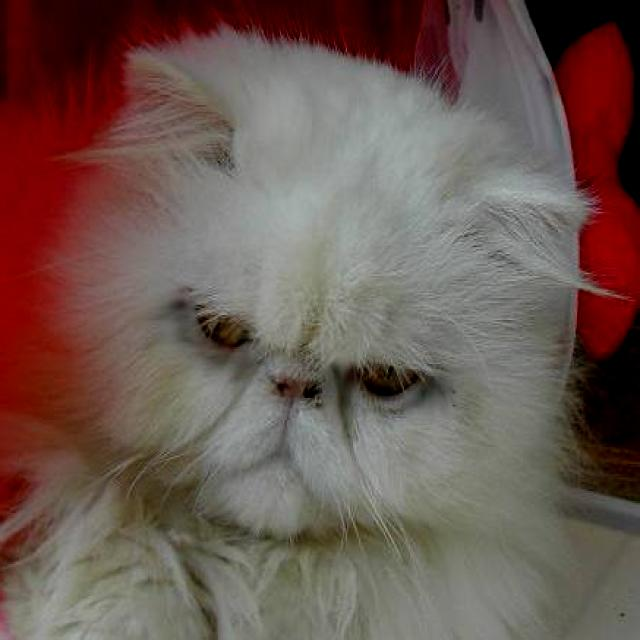Kucing: (45, 19, 600, 627)
